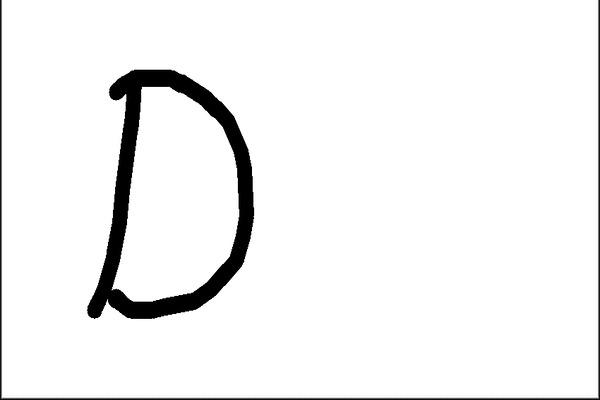D: (80, 64, 260, 321)
